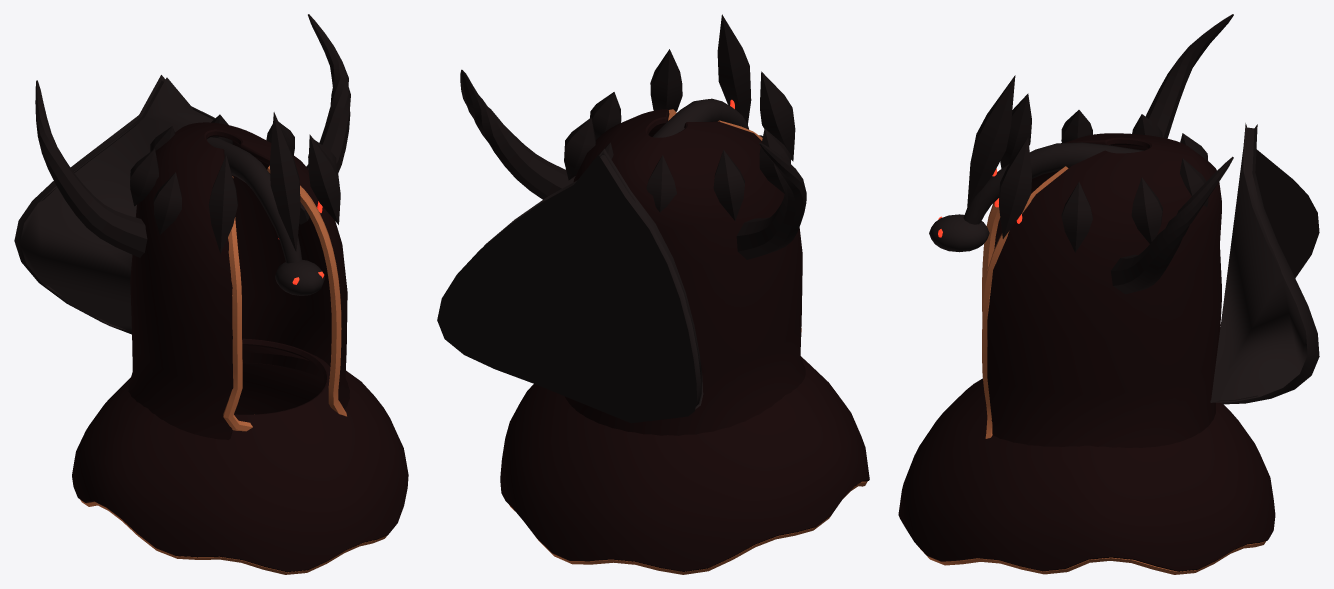
The model's file is asc_abyssal_fang_helm.glb.
The picture shows the model from 3 angles, left to right: view 1: azimuth 30°, elevation 25°; view 2: azimuth 150°, elevation 25°; view 3: azimuth 270°, elevation 25°; orthographic projection. The views are drawn at different scales.
Visible parts, largest first — view 1: asc_abyssal_fang_helm; view 2: asc_abyssal_fang_helm; view 3: asc_abyssal_fang_helm.
Boxes of the visible parts, left/top/right/bottom form: asc_abyssal_fang_helm: left=14, top=14, right=408, bottom=574; asc_abyssal_fang_helm: left=437, top=14, right=869, bottom=574; asc_abyssal_fang_helm: left=898, top=14, right=1319, bottom=574.
Size of the model in its own units: 0.6292 by 0.8274 by 0.6995.
